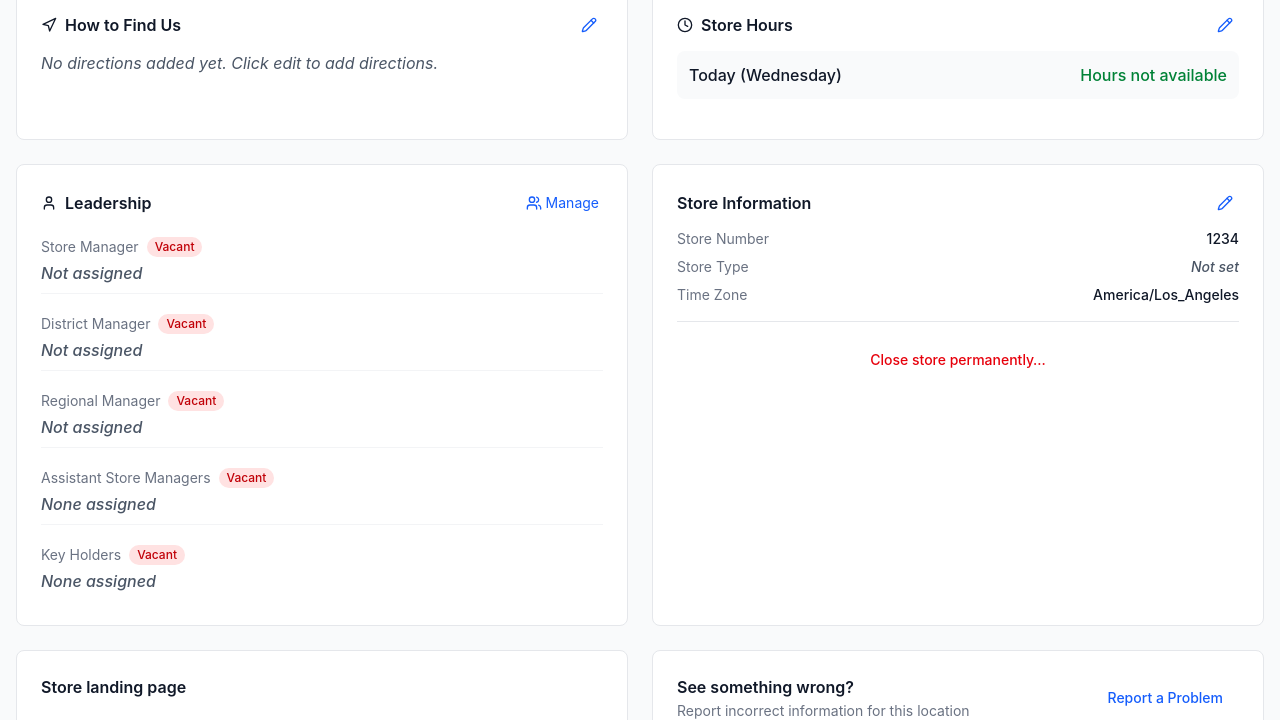
Scenario: LocationDetailView close and restore › shows the empty state when nobody is active
This screenshot has width=1280, height=720.
(page scrolled)
Click the button "Close store permanently…". click: point(958, 360)
box: x1=677 y1=338 x2=1239 y2=382
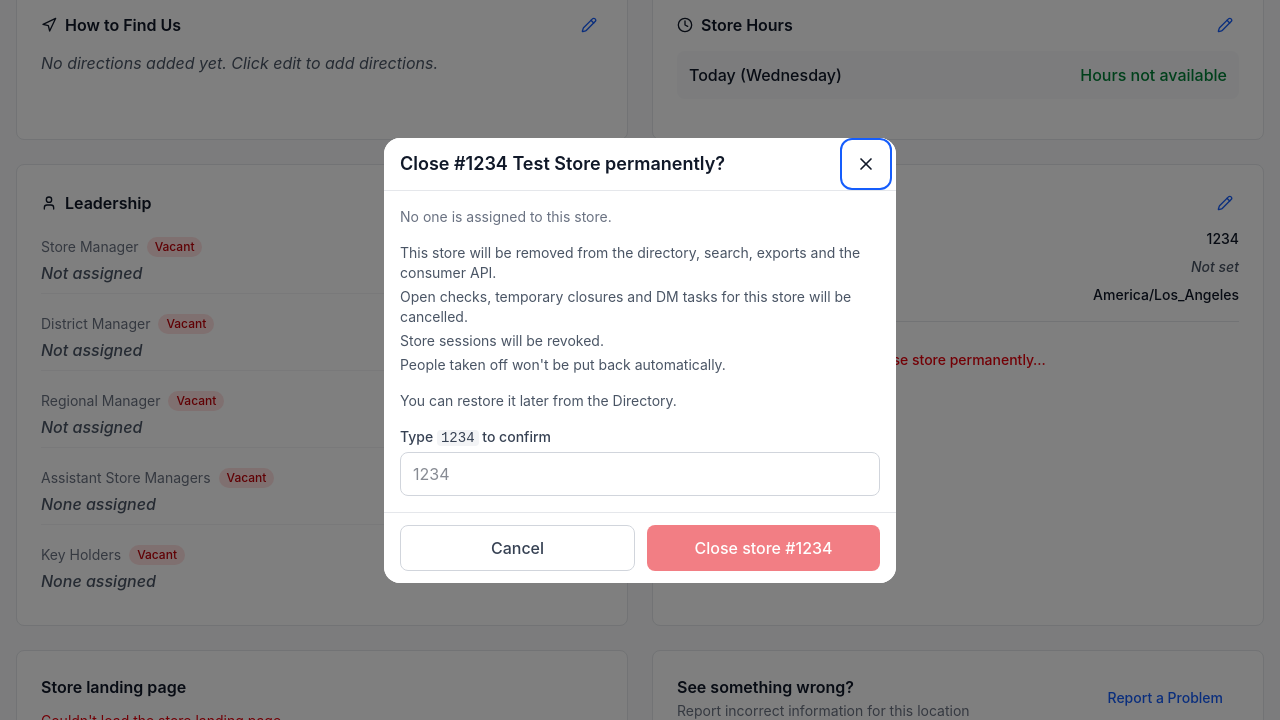
Expected: the dialog is shown, x1=384 y1=138 x2=896 y2=582
Expected: the text "No one is assigned to this store." is shown, x1=400 y1=208 x2=612 y2=224
